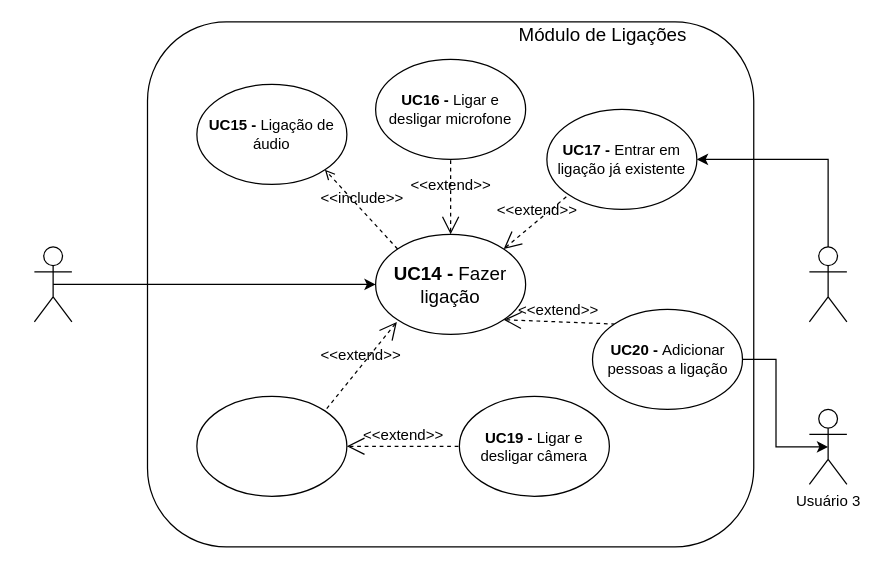
This 881x569 diagram has some shape labels left out. Here are the shapes that lost their labels. From the top down, the centre of each, then its label:
At pixel 52 284: "Usuário 1".
At pixel 827 284: "Usuário 2".
At pixel 271 445: "UC18 - Ligação de vídeo".
